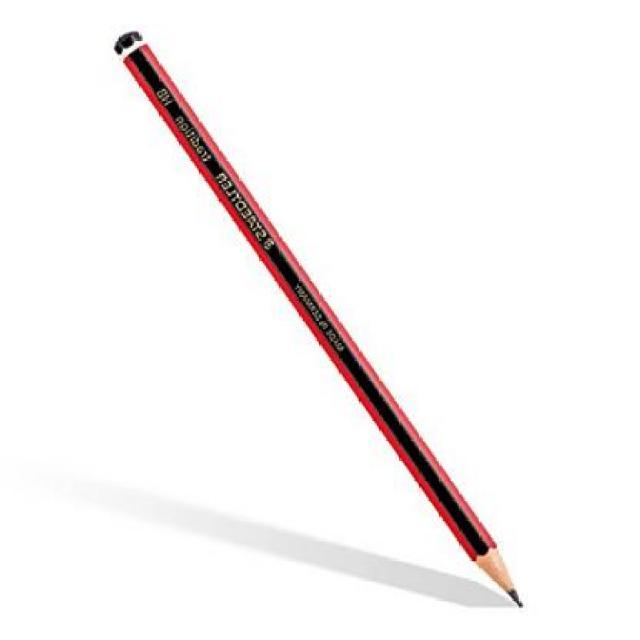Pencil: (463, 527, 534, 619)
